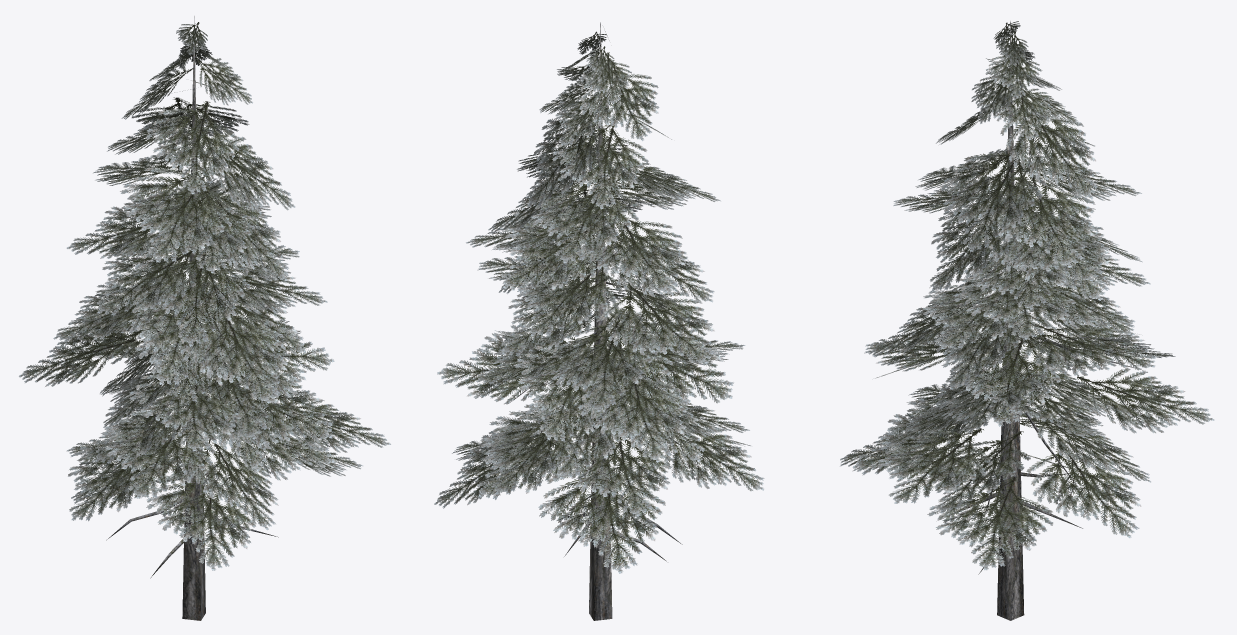
Rendered from SC_bingfengyiji_01.FBX.
3 renders of one model, left to right at view 1: azimuth 30°, elevation 25°; view 2: azimuth 150°, elevation 25°; view 3: azimuth 270°, elevation 25°, orthographic.
Parts seen in each view (by area): view 1: SC_bingfengyiji_01; view 2: SC_bingfengyiji_01; view 3: SC_bingfengyiji_01.
Part boxes in pixels (bbox=[...]): SC_bingfengyiji_01: bbox=[19, 16, 390, 620]; SC_bingfengyiji_01: bbox=[434, 22, 764, 620]; SC_bingfengyiji_01: bbox=[840, 21, 1214, 620].
Size of the model in its own units: 318 by 580 by 354.
